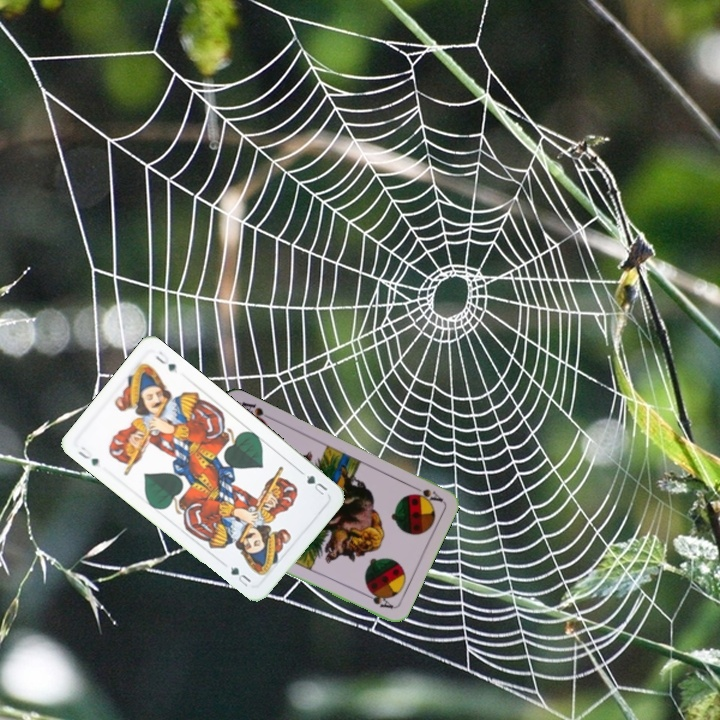GU: (302, 471, 330, 498), (74, 442, 102, 468)
SA: (406, 481, 445, 505)
